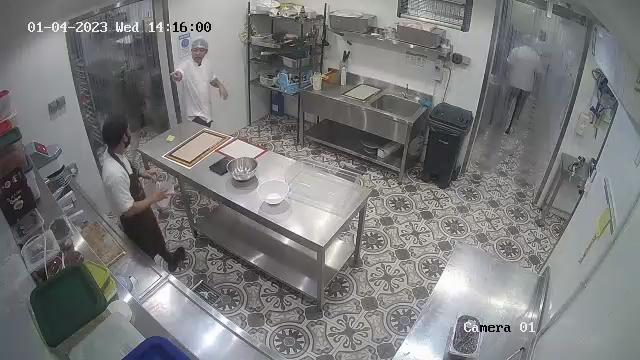no_apron: (106, 150, 167, 257), (182, 59, 211, 118)
